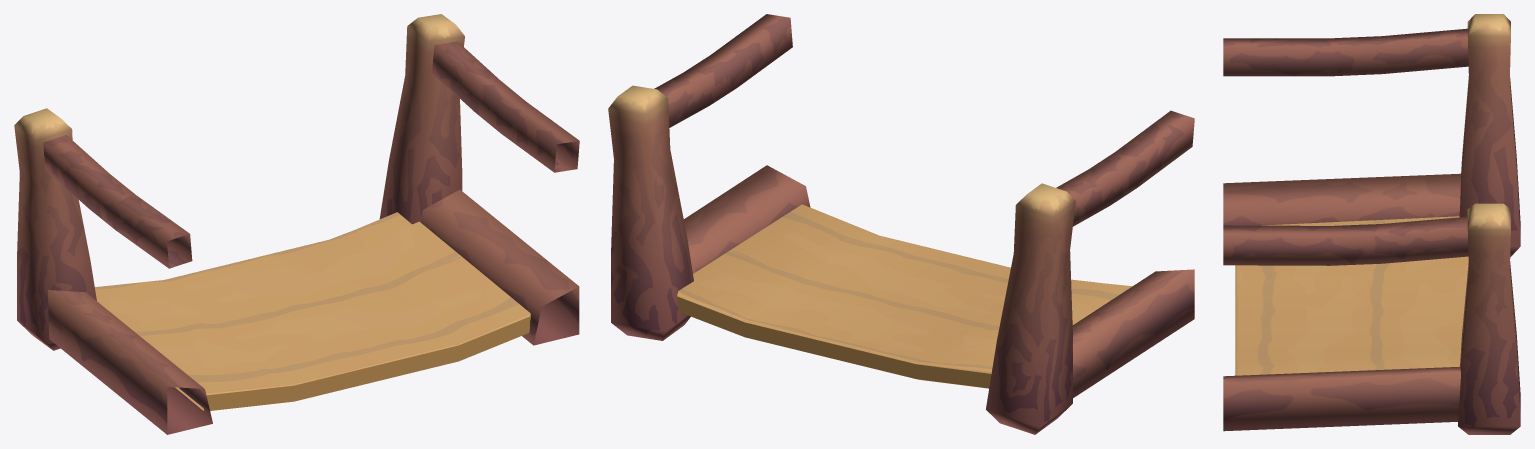
Rendered from BridgePart.fbx.
The picture shows the model from 3 angles, left to right: view 1: azimuth 30°, elevation 25°; view 2: azimuth 150°, elevation 25°; view 3: azimuth 270°, elevation 25°; orthographic projection. The views are drawn at different scales.
Parts seen in each view (by area): view 1: Beam18; view 2: Beam18; view 3: Beam18.
Boxes of the visible parts, x1,y1,x2,y2 form: Beam18: (14,14,579,434); Beam18: (608,14,1194,434); Beam18: (1223,14,1520,434).
Size of the model in its own units: 9.36 by 4.73 by 5.64.
4 materials, 4 textured.
